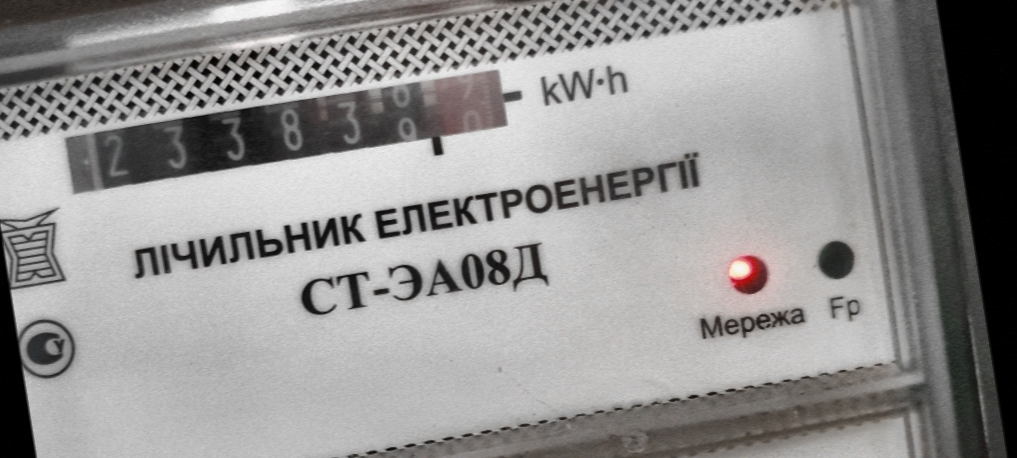0: (458, 104, 484, 133)
2: (99, 129, 130, 179)
3: (156, 118, 192, 171), (214, 110, 250, 163), (332, 95, 363, 144)
8: (273, 103, 307, 153), (387, 79, 413, 110)
9: (452, 68, 478, 101), (393, 111, 418, 143)
screen: (50, 54, 531, 215)
